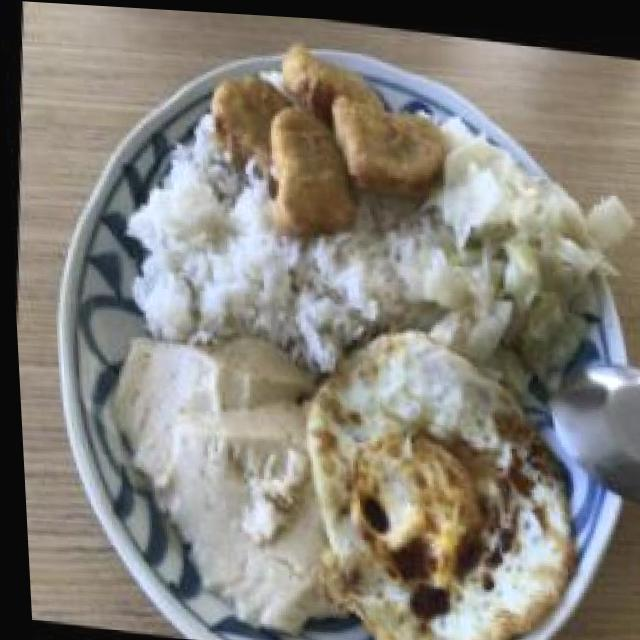chicken_nuggets: (199, 29, 452, 249)
chinese_cabbage: (430, 148, 612, 379)
fried_eggs: (280, 312, 584, 640)
rice: (132, 184, 447, 371)
